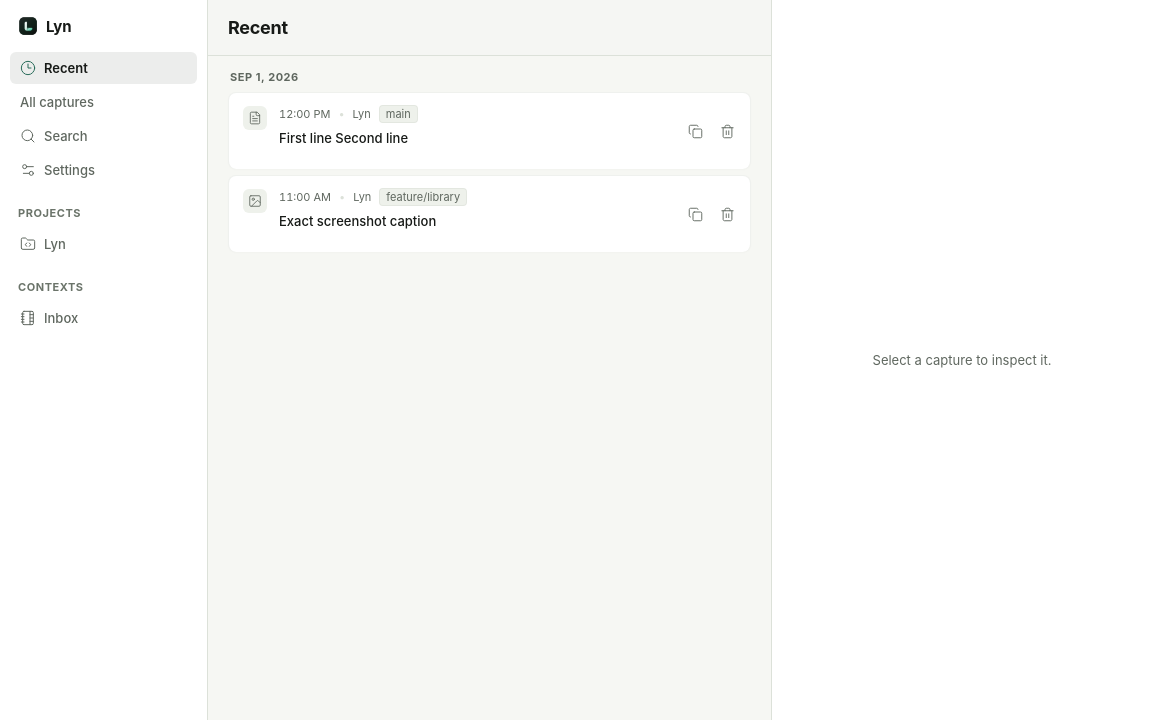
responsive Library › pages search results with the active literal query and filters
The width and height of the screenshot is (1152, 720).
Expected: the button with aria-label "text capture in Lyn" is shown, [229,93,680,169]
Click the button "Search": (104, 136) [10,120,197,152]
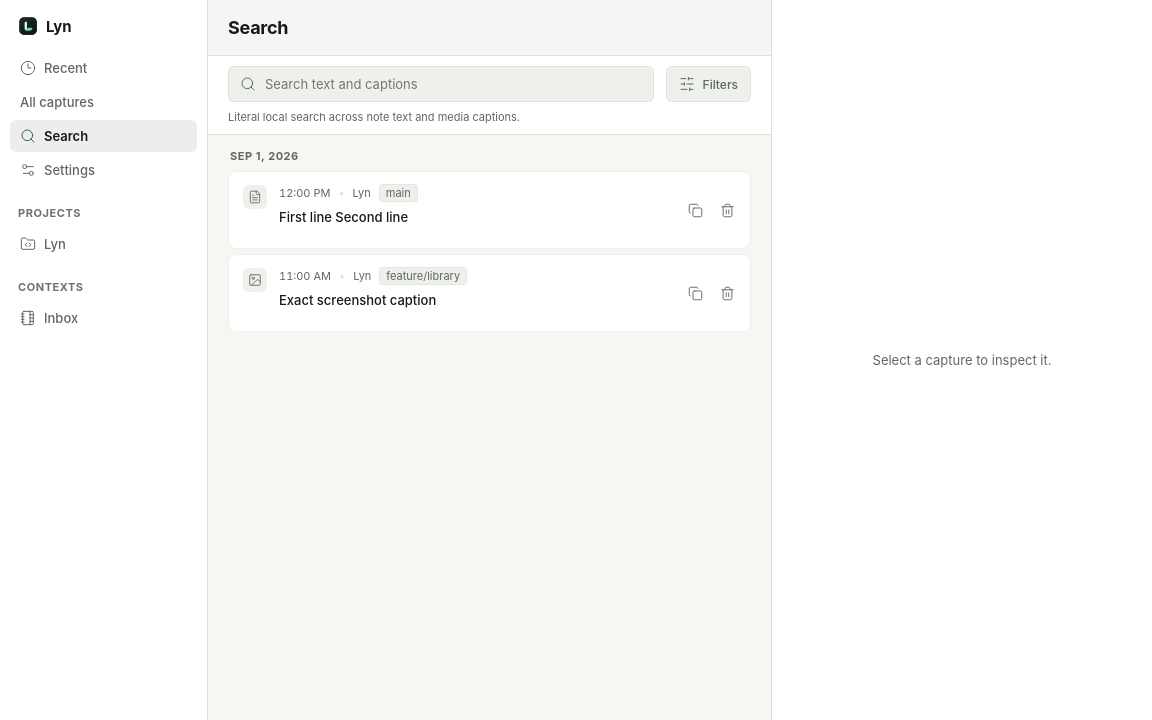
In the search field named "Search captures": (441, 84) [228,66,654,102], type "alpha"
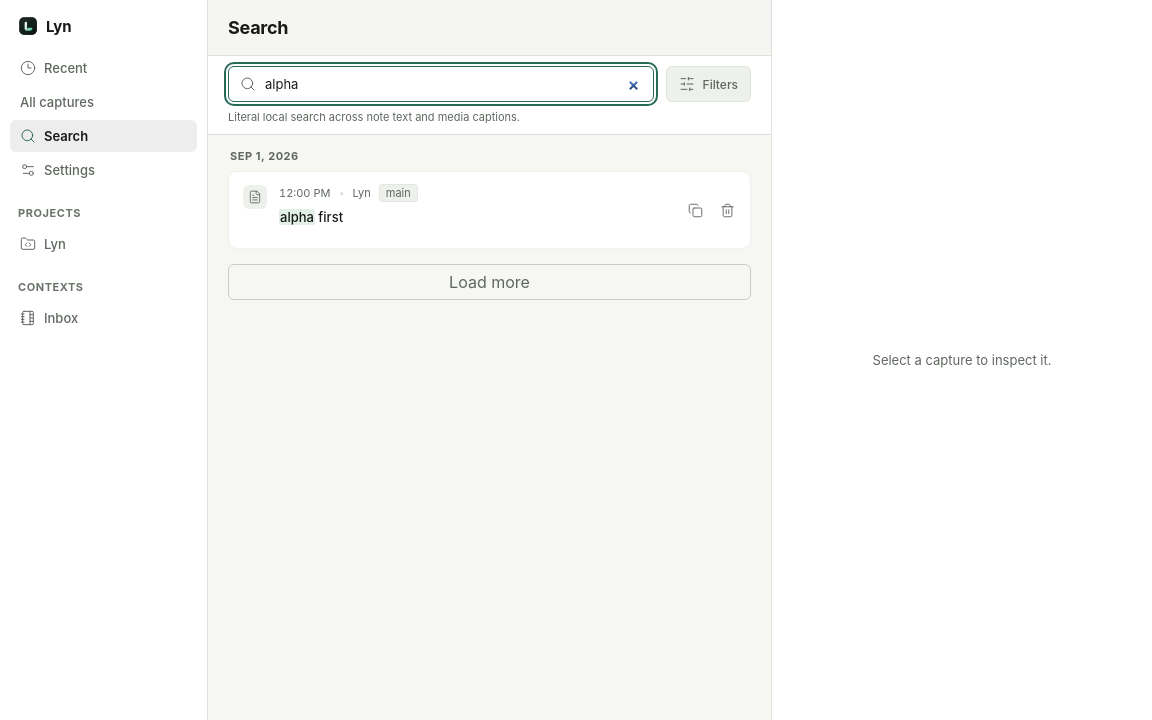
Click the button "Load more": (490, 282) [228,264,751,300]
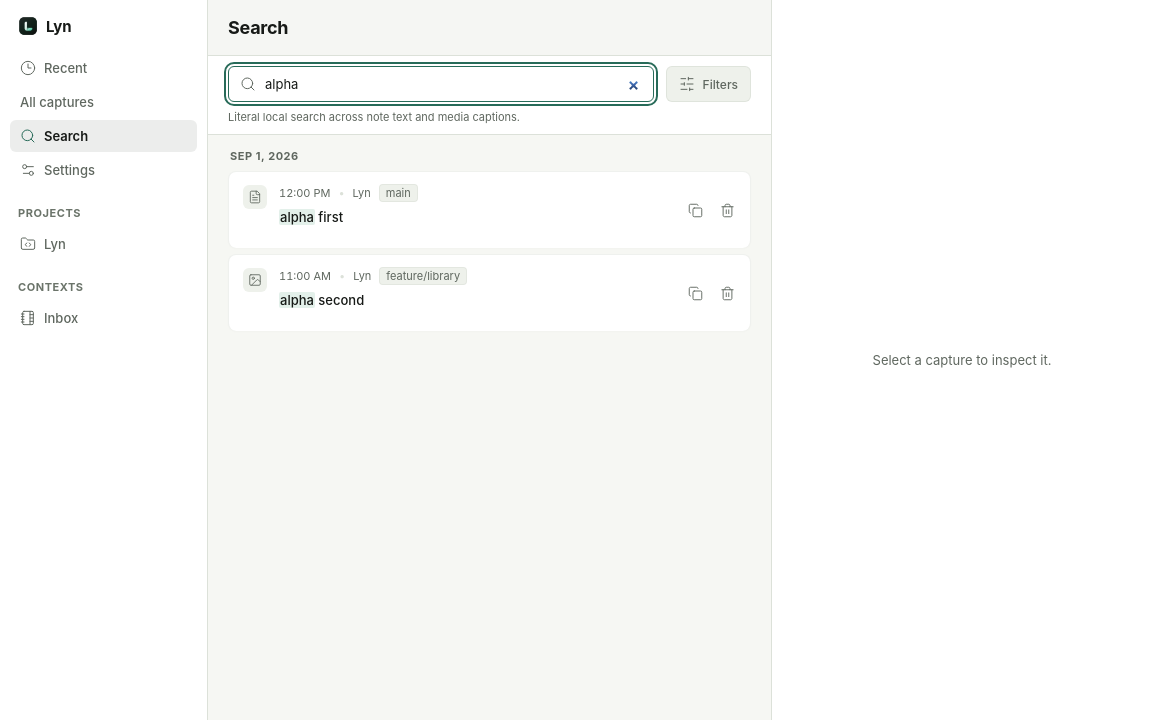
Expected: the text "second" is shown, [315,292,364,308]
